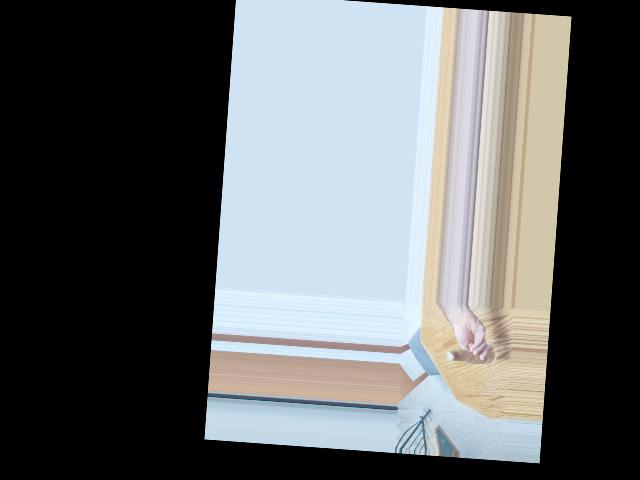sweet_potato: (445, 342, 495, 365)
